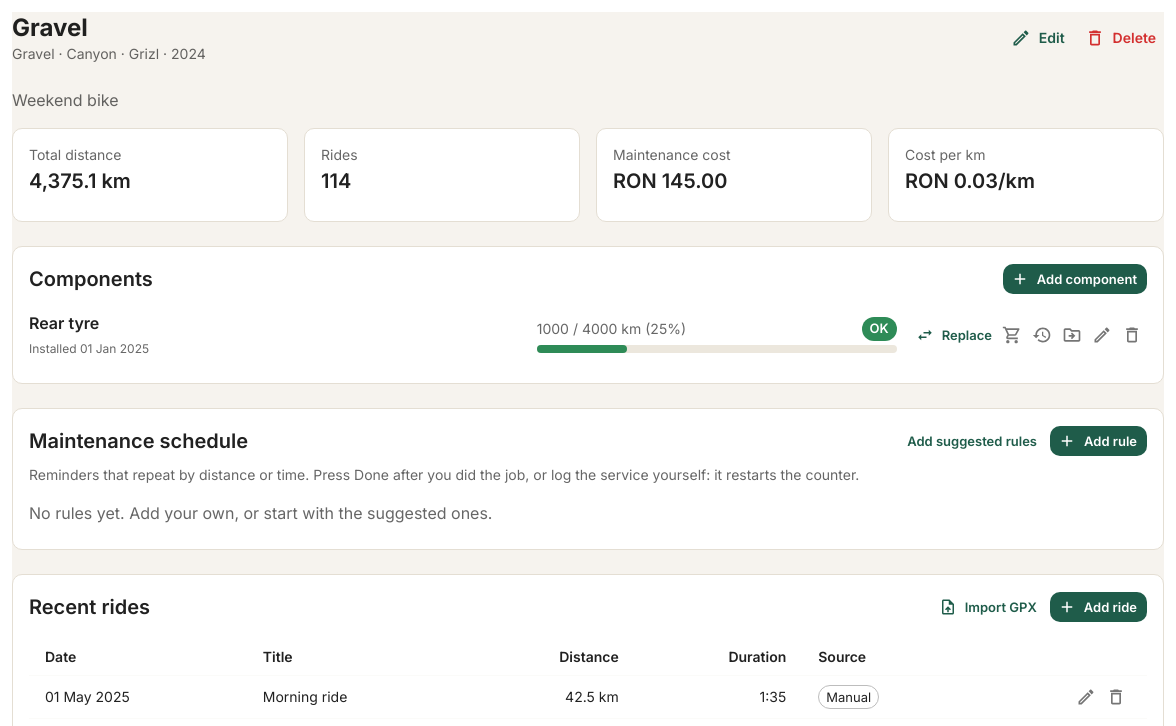
Scenario: BikeDetail › buying a replacement › every active part has a buy menu that knows the bike type
Expected: the heading "Gravel" is shown, [12, 13, 88, 42]
What coordinates should you click on to do the following:
click the button named "Buy a replacement"
I would click on:
 (1012, 335)
Its box is [997, 320, 1027, 350].
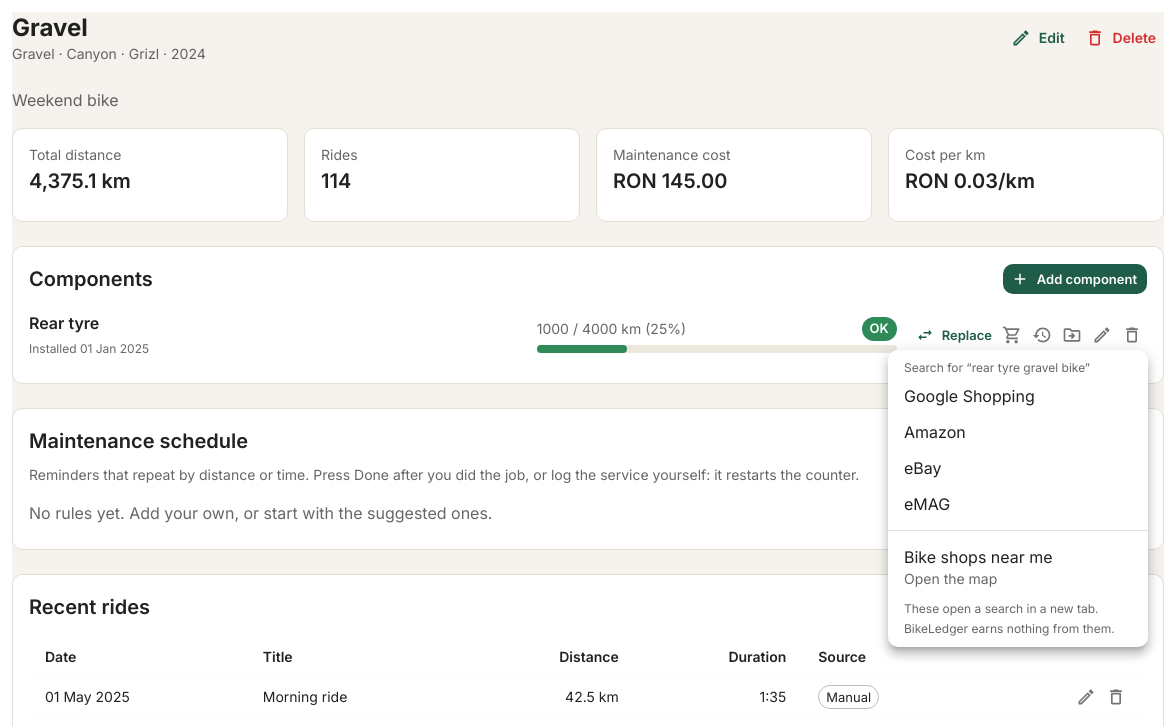
Expected: the text "Search for “rear tyre gravel bike”" is shown, [904, 360, 1090, 375]
